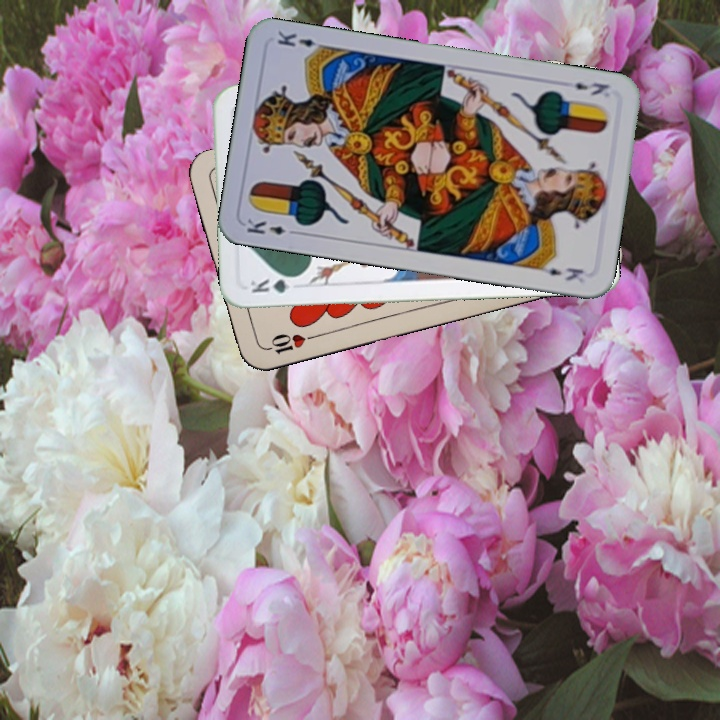EK: (242, 214, 301, 238), (571, 78, 612, 98)
GK: (246, 272, 303, 296)
H10: (260, 329, 319, 357)
